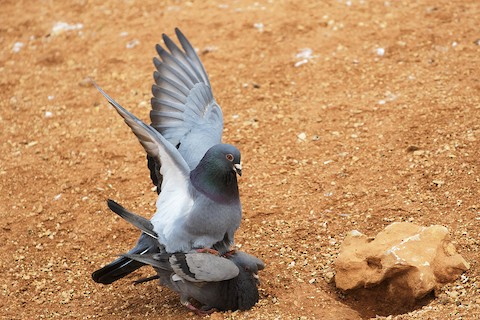pigeon: (95, 27, 248, 258), (90, 215, 266, 316)
